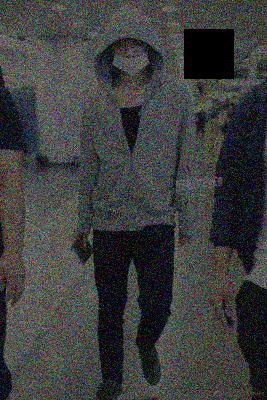mask_weared_incorrect: (111, 40, 151, 77)
